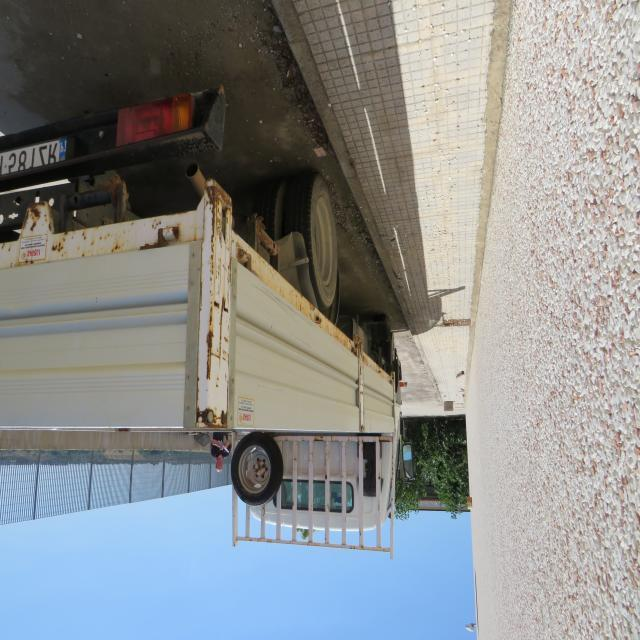truck: (0, 84, 402, 560)
